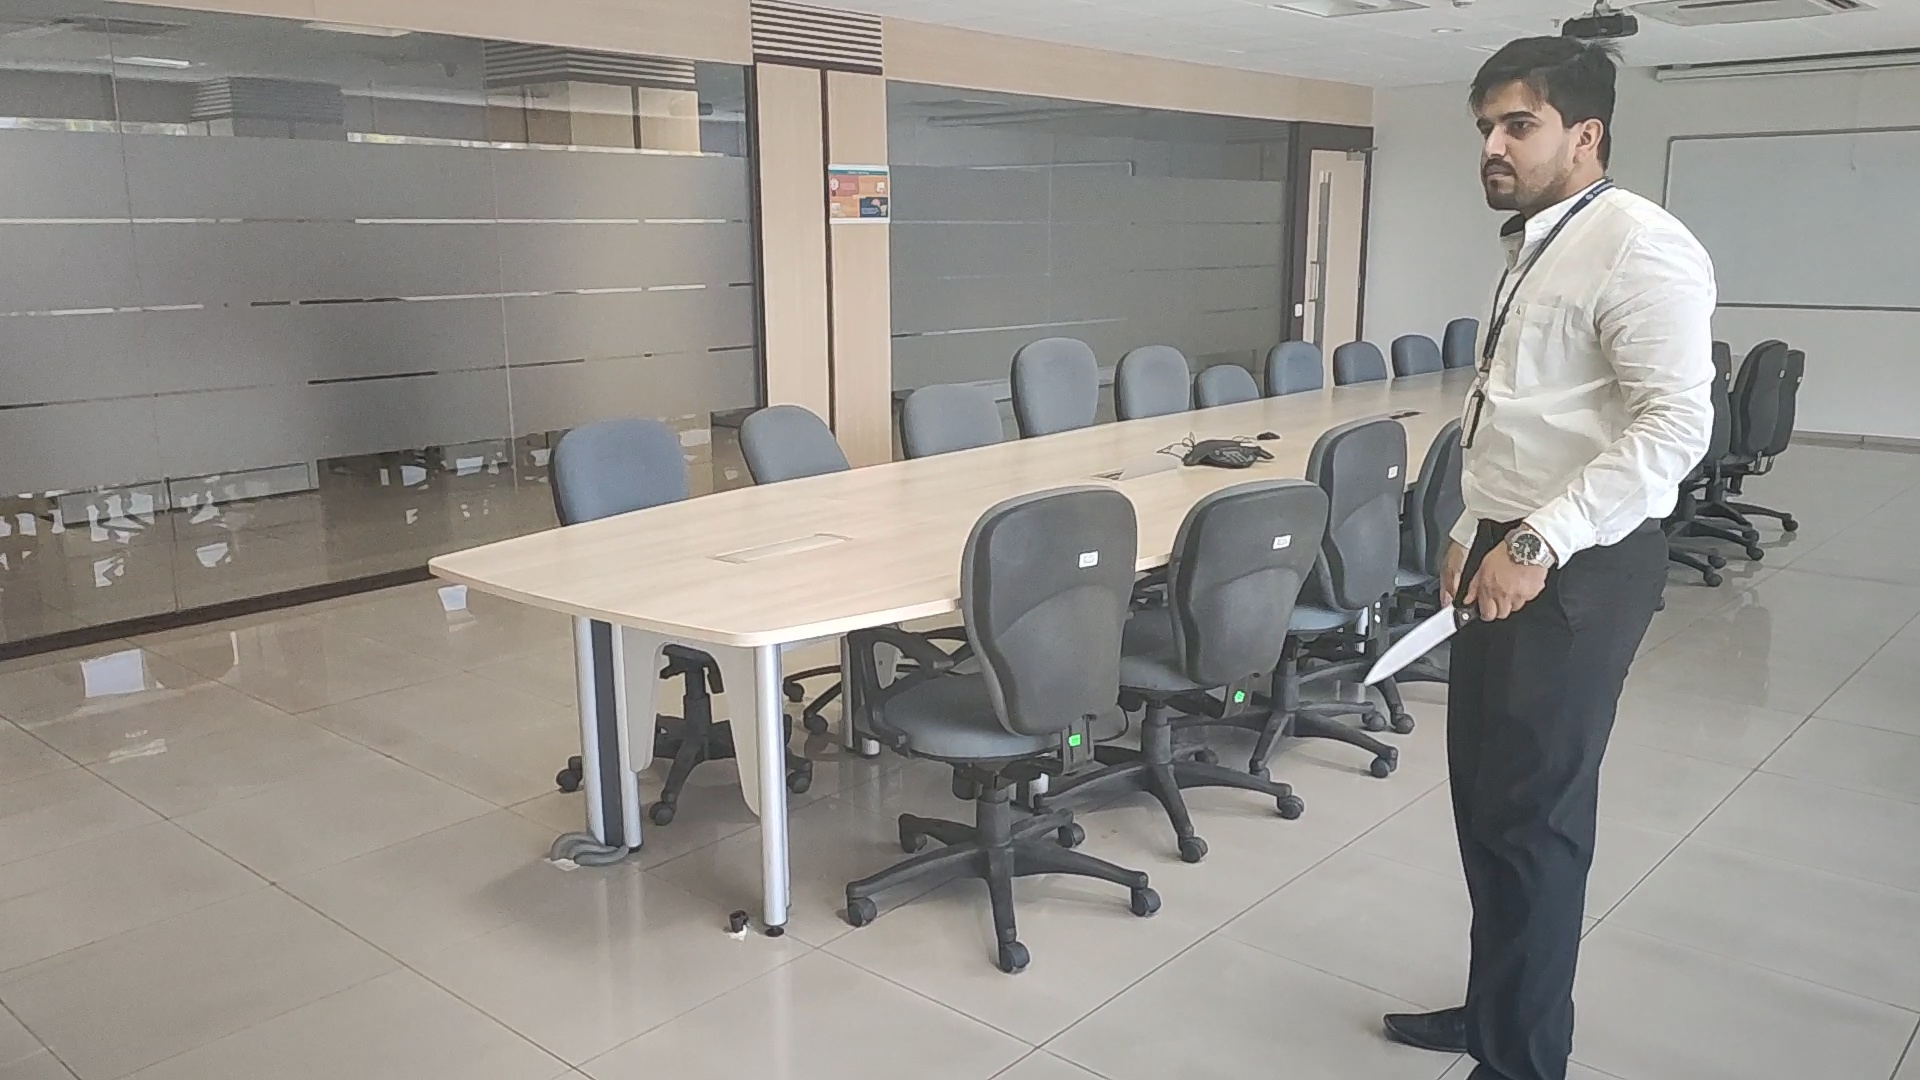knife: (1364, 604, 1465, 686)
